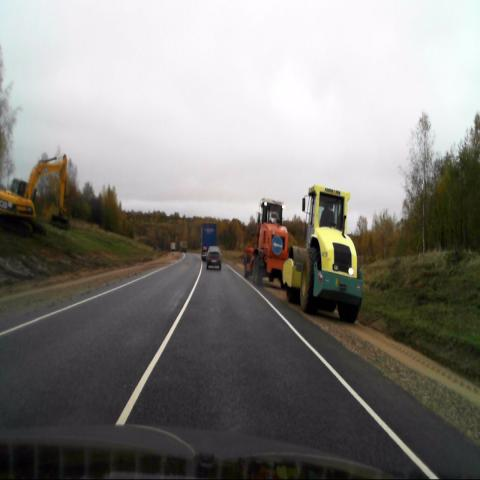4_1_2_2: (271, 235, 282, 255)
